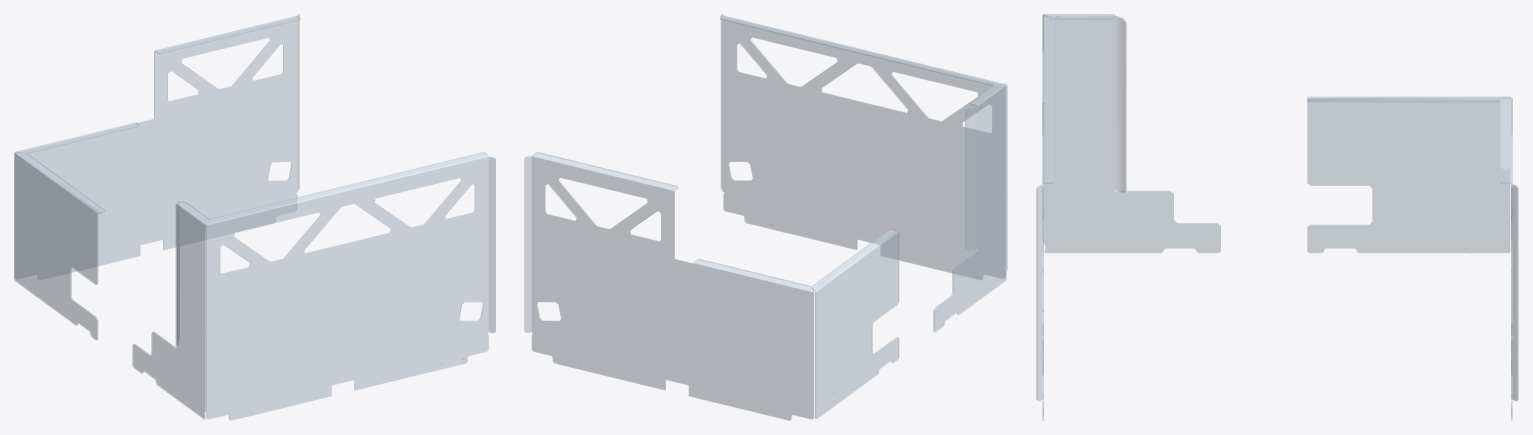
File: 1690-panels.glb
The picture shows the model from 3 angles, left to right: view 1: azimuth 30°, elevation 25°; view 2: azimuth 150°, elevation 25°; view 3: azimuth 270°, elevation 25°; orthographic projection. The views are drawn at different scales.
Parts seen in each view (by area): view 1: Part 33; view 2: Part 33; view 3: Part 33.
Part boxes in pixels (x1=…): Part 33: x1=14, y1=14, x2=495, y2=420; Part 33: x1=524, y1=14, x2=1007, y2=420; Part 33: x1=1036, y1=14, x2=1518, y2=420.
Bounding box in the file's own units: 0.6549 × 0.4392 × 0.7751.
